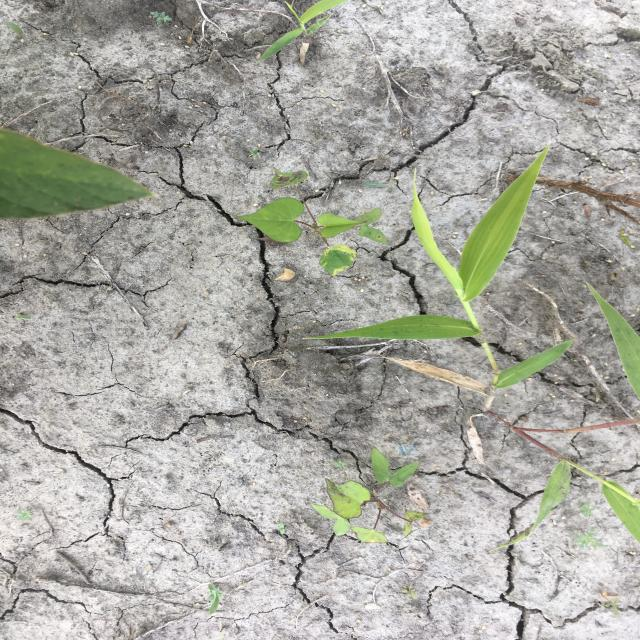MorningGlory: (231, 165, 390, 279), (309, 444, 430, 545)
